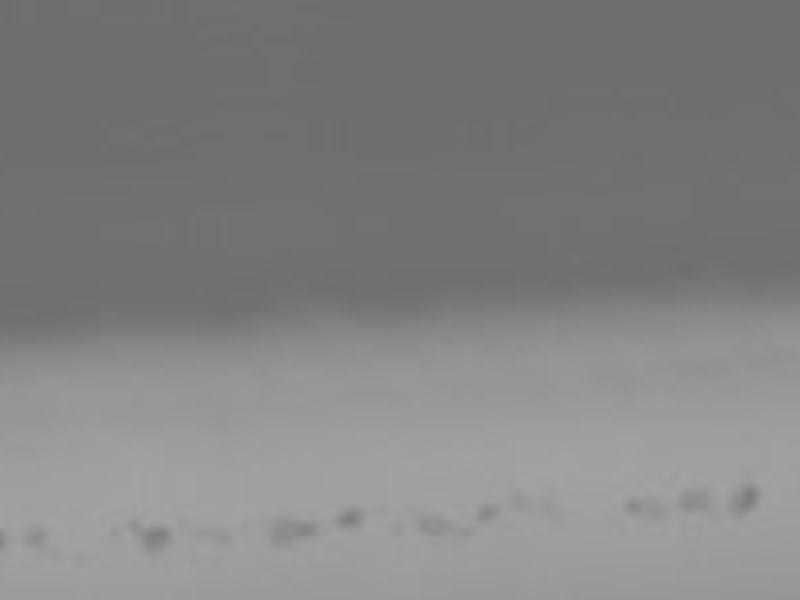defect: (268, 513, 314, 554), (729, 480, 760, 520), (623, 495, 664, 523), (678, 486, 715, 515), (133, 526, 165, 558), (417, 510, 449, 540), (336, 505, 367, 531), (474, 498, 501, 524), (21, 521, 49, 546), (188, 529, 232, 543), (508, 489, 528, 512), (120, 517, 140, 535), (457, 523, 477, 538), (391, 521, 406, 535), (73, 551, 86, 565)
